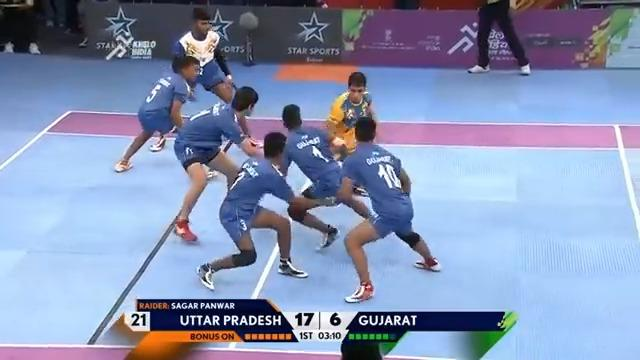Player: (195, 130, 337, 290), (336, 115, 441, 303), (172, 85, 264, 242), (276, 103, 374, 250), (170, 7, 249, 178), (113, 54, 202, 172), (170, 6, 235, 105)
Raider: (325, 71, 377, 153)
referee: (466, 0, 532, 75), (0, 0, 41, 54)
